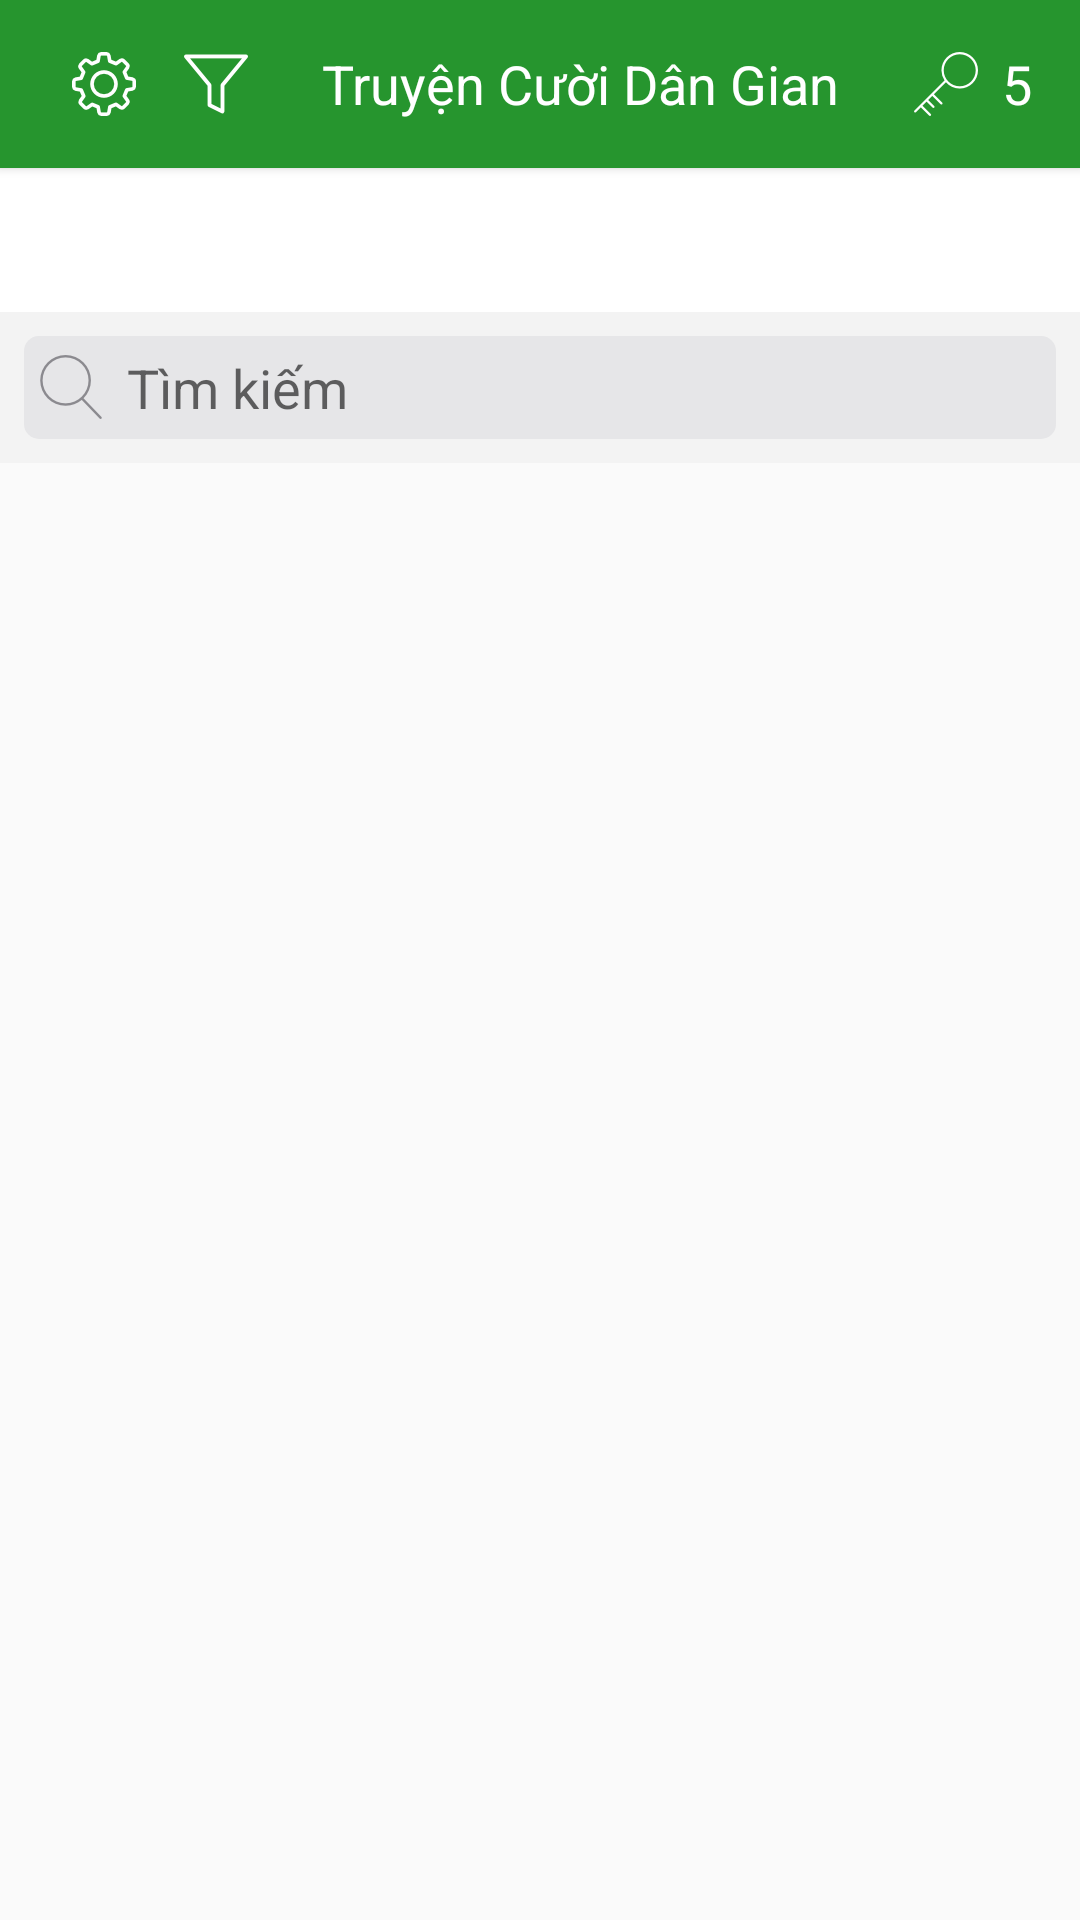

Named icons in this screenshot (1080×1920) and their bounding boxes, (x1, y1, x2, y2):
filter: (184, 54, 248, 114)
key: (914, 52, 978, 116)
settings: (72, 52, 136, 116)
